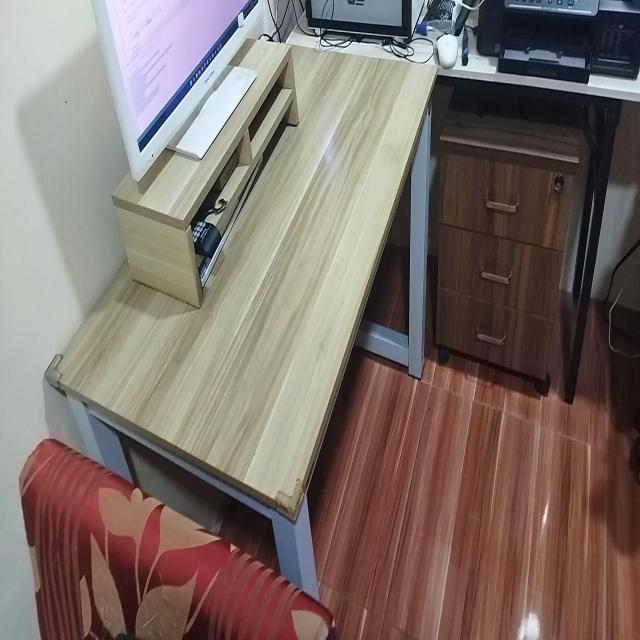table: (59, 27, 432, 523)
